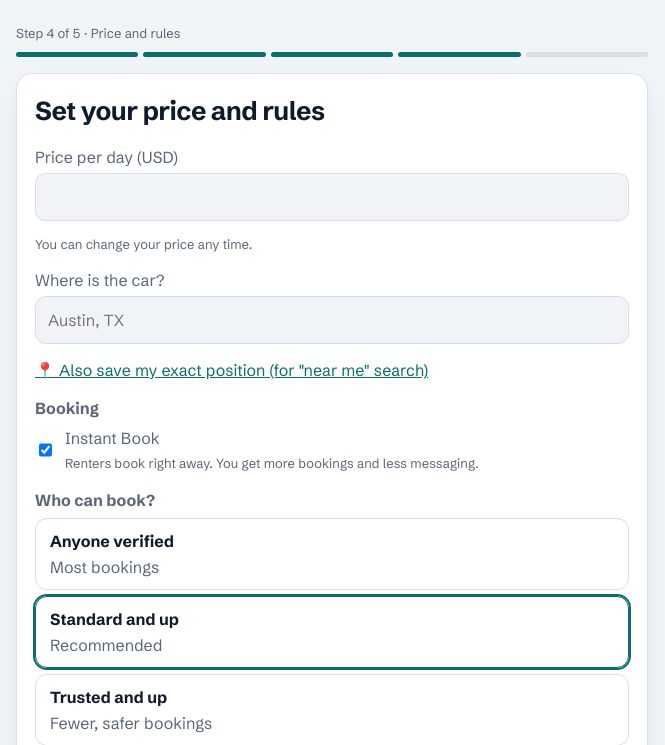
Test: List your car: details and price › the instant-book and delivery explanations change with the choice
The image size is (665, 745).
Expected: the text "more bookings and less messaging" is shown, [65,455,479,471]
Click the checkbox labelled "Instant Book". click: (46, 450)
box: [39,429,52,471]
(page scrolled)
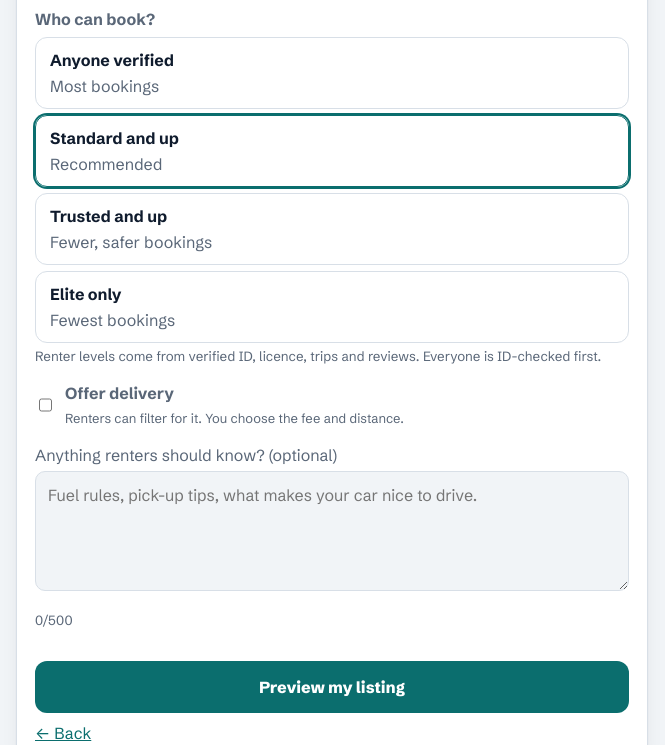
Click the checkbox labelled "Offer delivery". click: (46, 405)
box: [39,384,52,426]
(page scrolled)
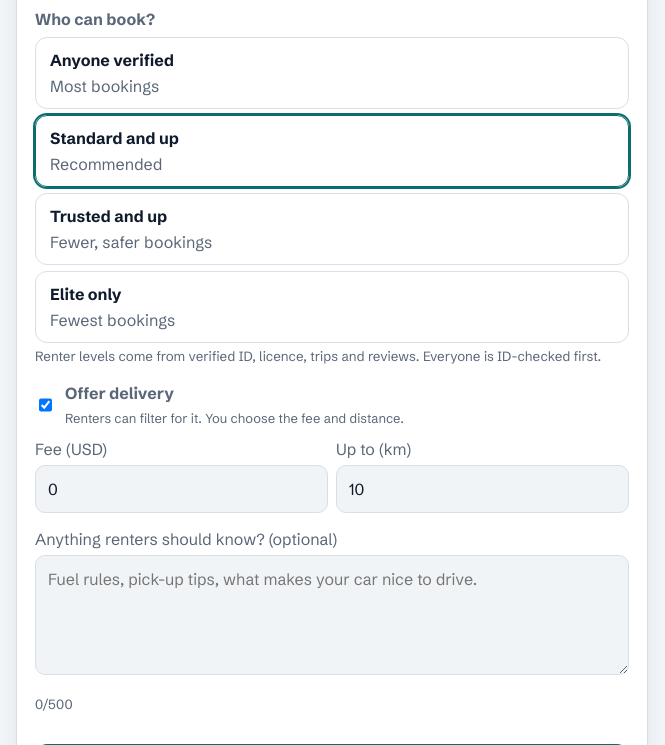
Expected: the field labelled "Fee (USD)" is shown, [35,464,328,512]
